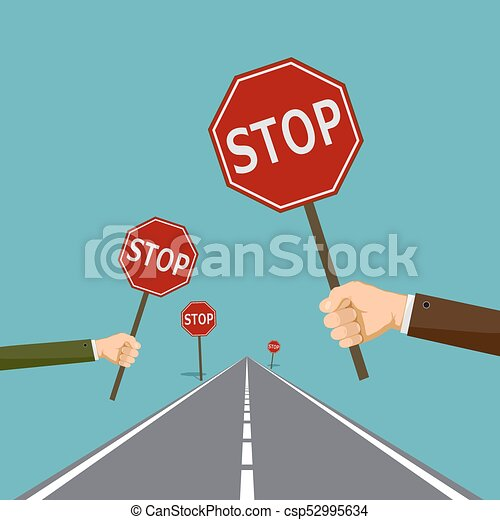stop: (217, 68, 349, 193), (127, 229, 192, 292), (182, 308, 216, 333), (268, 342, 280, 354)
